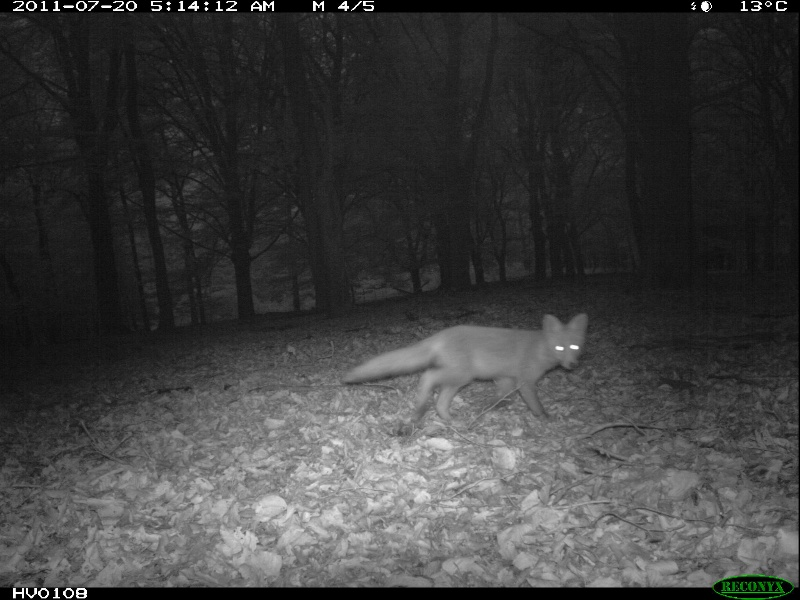fox: (345, 309, 593, 443)
